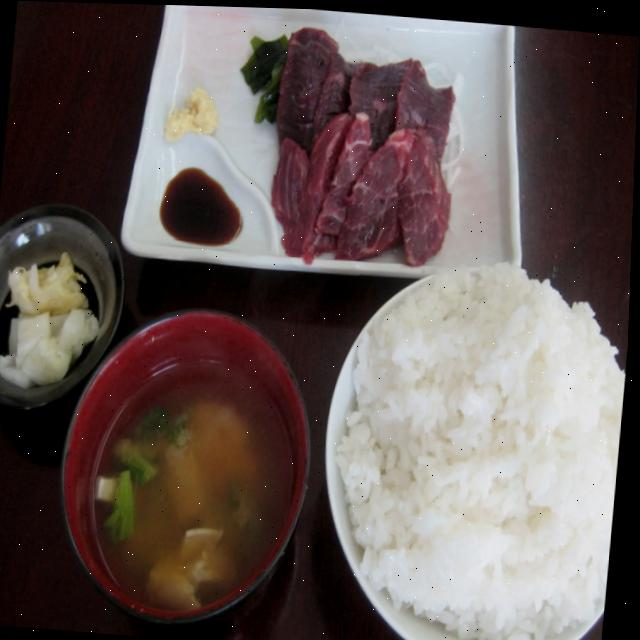刺身生食: (210, 5, 501, 309)
